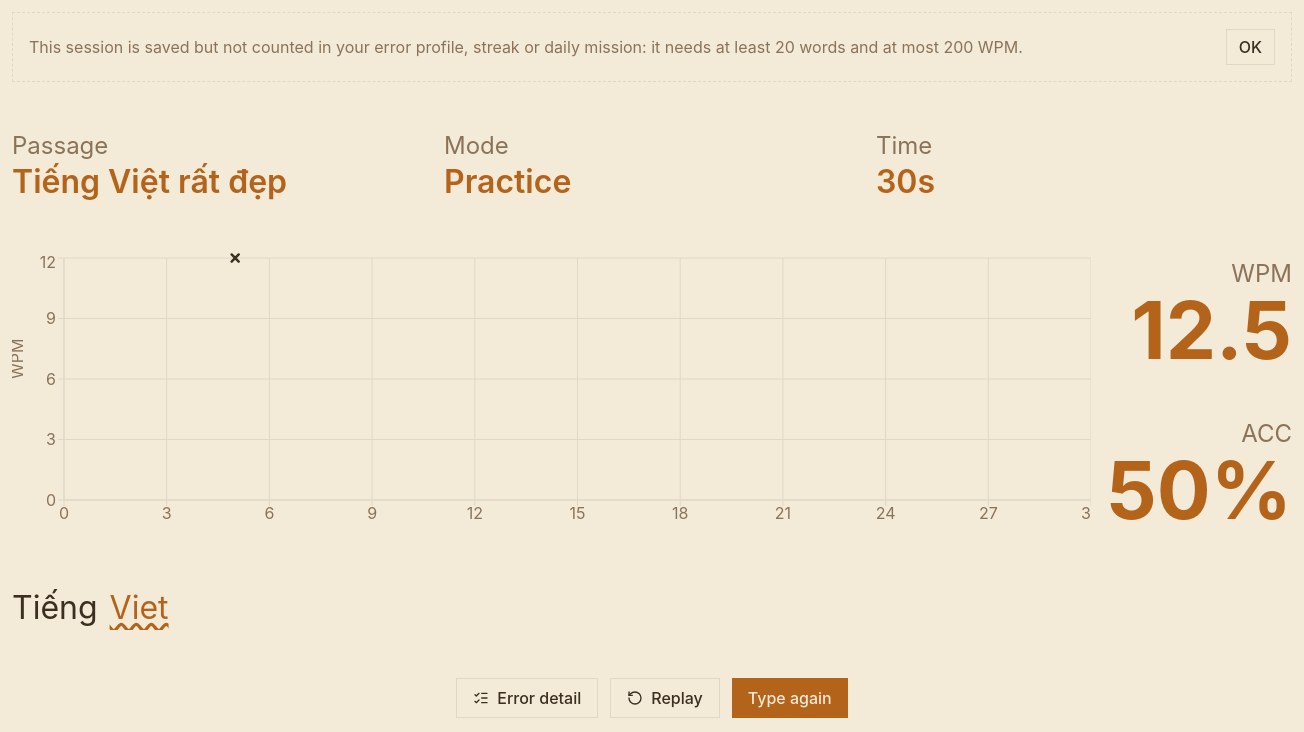
Test: TypingResultPage › hides the not-counted note with the OK button
Check: the text "not counted in your error profile" is shown, box [29,37,1023,57]
What coordinates should you click on to do the following:
click the button "OK"
I would click on:
 (1250, 47)
Its box is [1226,29,1275,65].
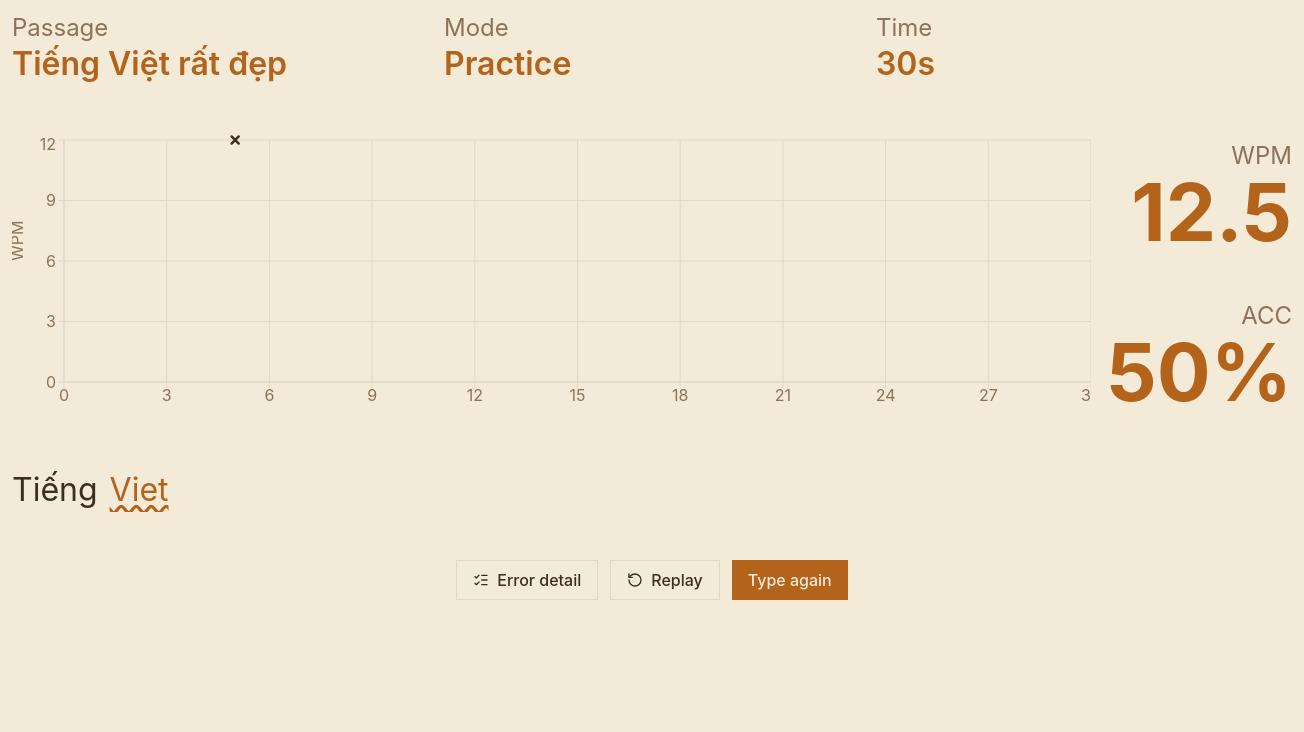
Check: the text "not counted in your error profile" is gone
